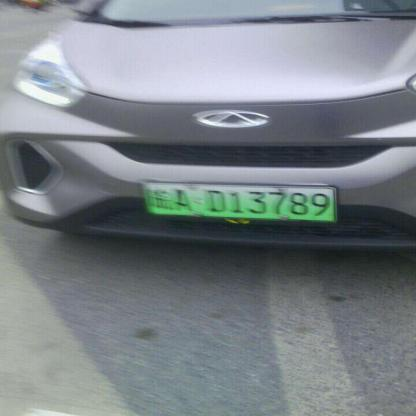lp: (141, 182, 334, 221)
